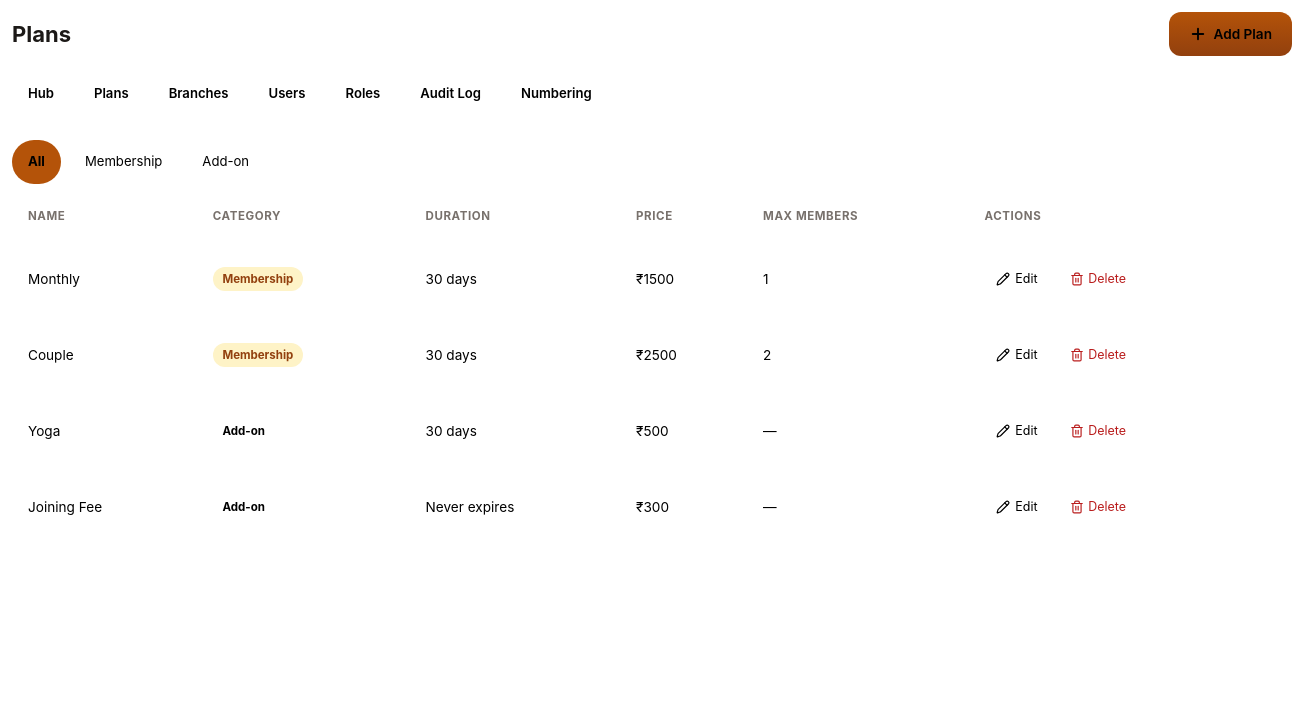
Test case: ManagePlansPage — add / edit › masks the price as the user types (digits and one decimal point, two places)
This screenshot has width=1304, height=726.
Click the button "Add Plan": click(1231, 34) 1169,12 -> 1292,56
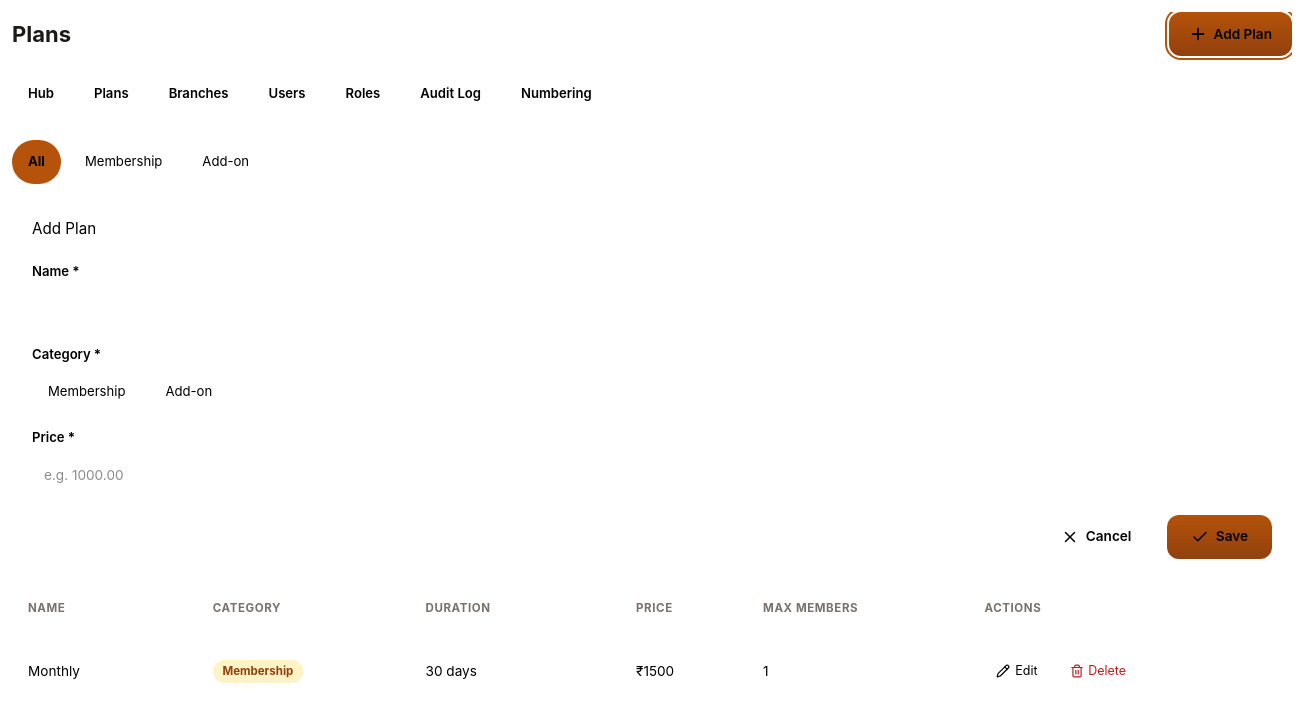
In the field labelled "Price *": (652, 475) 32,453 -> 1272,497, type "12a3.456"
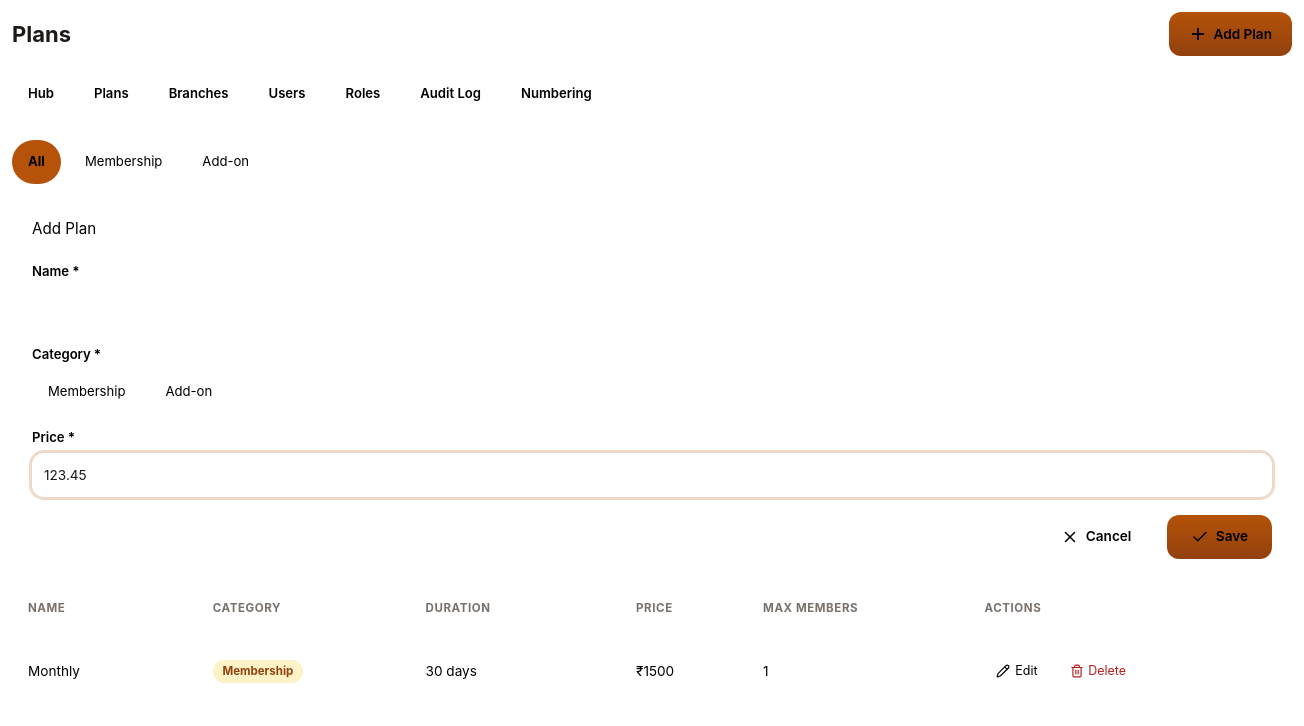
Expected: the field labelled "Price *" holds "123.45", 32,453 -> 1272,497
